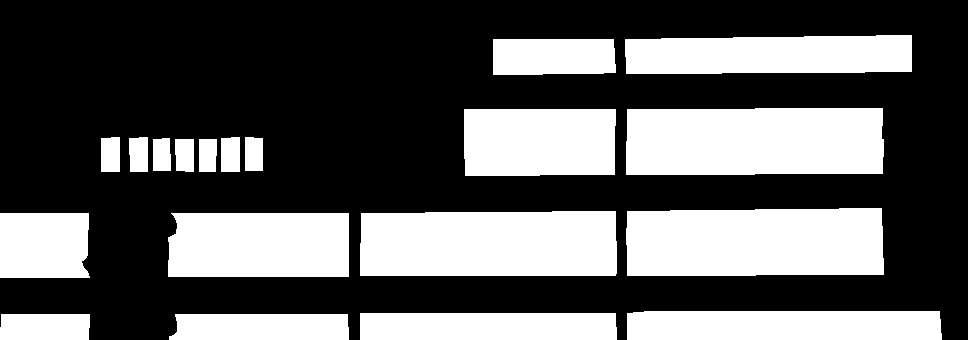parkingspot: (625, 35, 911, 73), (626, 208, 882, 244), (627, 311, 941, 340), (626, 139, 883, 174), (627, 108, 882, 143), (627, 241, 883, 275), (360, 241, 616, 275), (361, 211, 615, 245), (360, 313, 616, 340), (168, 243, 348, 276), (168, 213, 348, 245), (464, 140, 614, 175), (464, 109, 615, 143), (169, 314, 348, 340), (493, 39, 615, 74), (0, 243, 89, 277), (0, 213, 88, 247), (0, 314, 89, 340), (101, 137, 119, 171), (129, 137, 147, 171), (221, 137, 239, 171), (175, 139, 193, 171), (245, 137, 262, 170), (153, 138, 170, 170), (199, 139, 216, 171)
